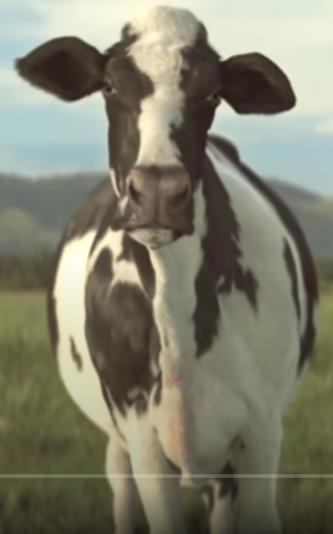cow: (15, 6, 317, 534)
